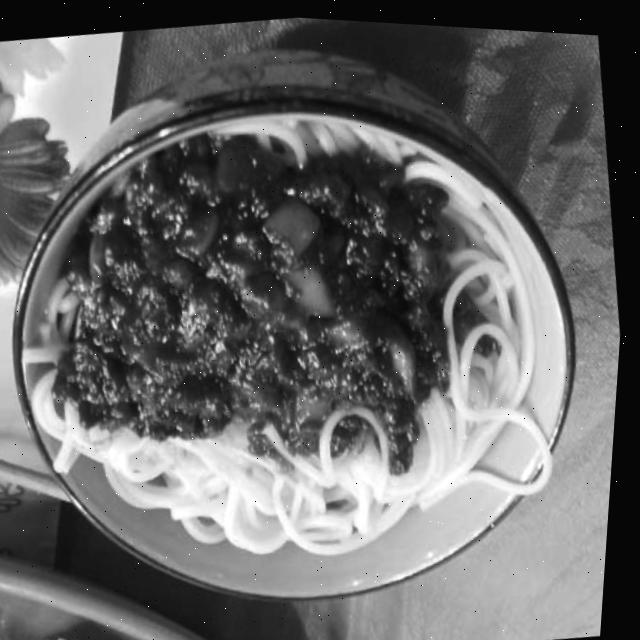面条主食: (0, 36, 600, 640)
